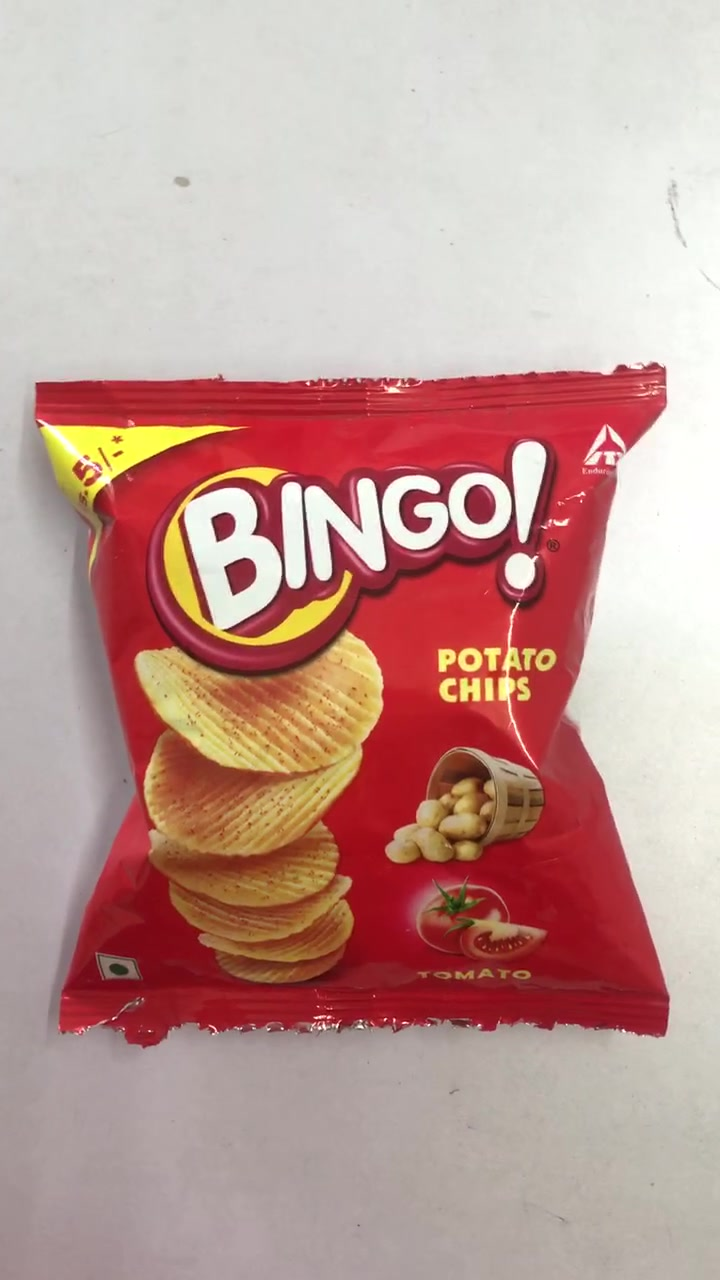Bingo: (31, 381, 688, 1021)
